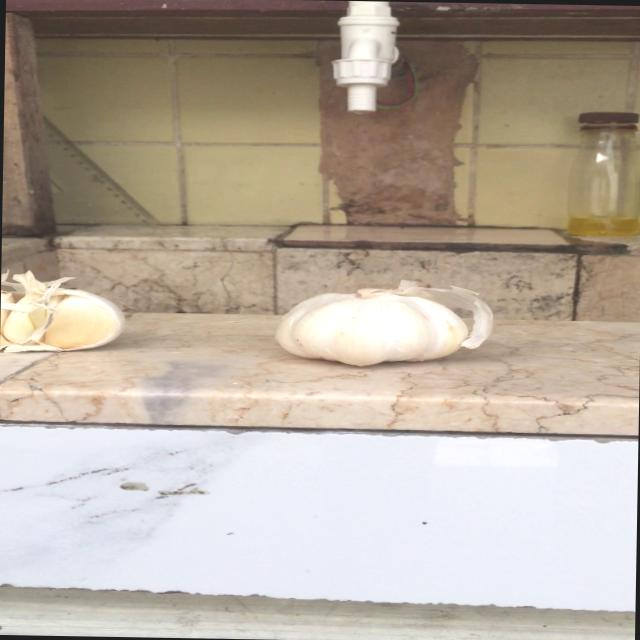garlic: (271, 274, 498, 372), (0, 268, 128, 357)
